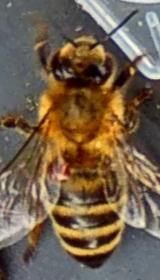varroa_mite: (41, 152, 80, 186)
